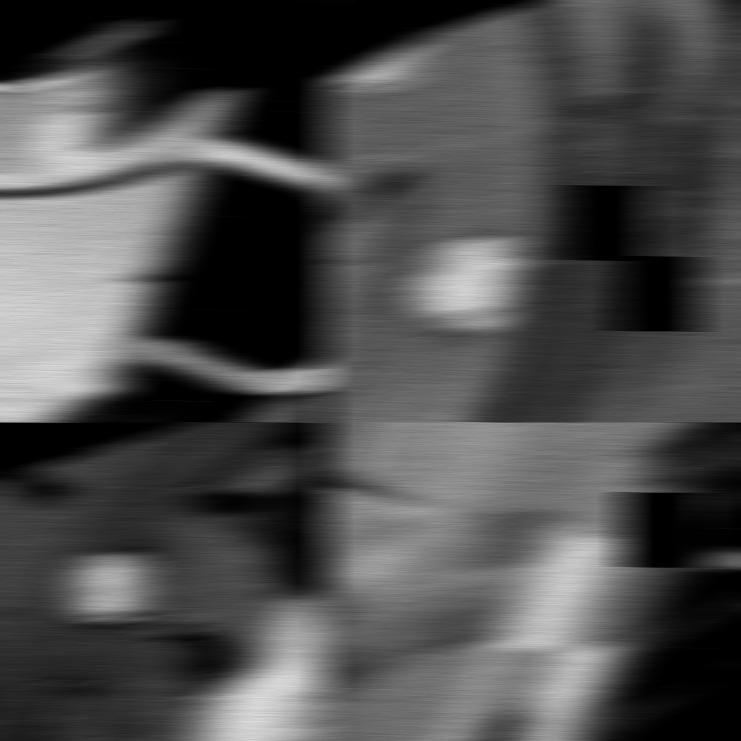Airbag: (319, 0, 741, 422), (0, 0, 333, 422), (319, 422, 741, 741), (0, 422, 333, 741)
